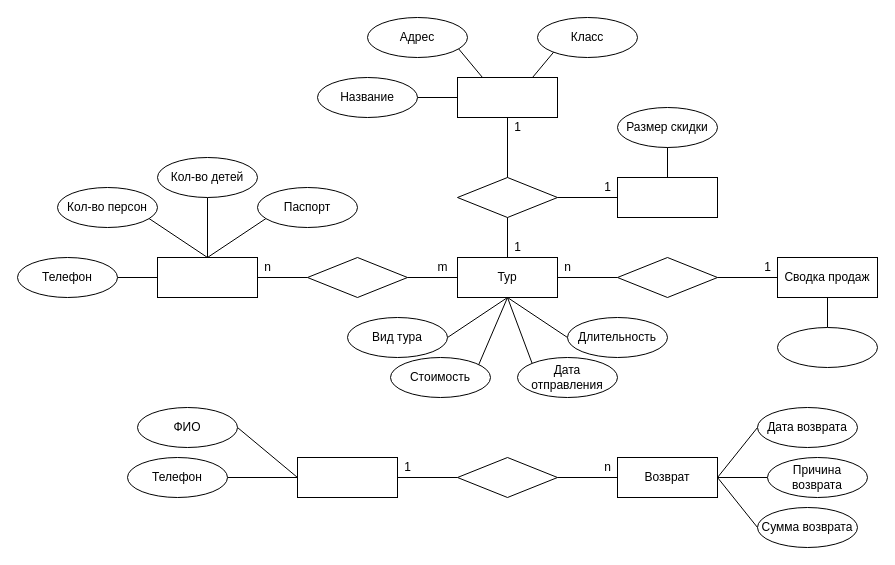
Some shapes in this 895 by 565 pixel diagram are drawn without their labels. The centre of each missing label's shape, as x and y in pixels:
"включает" belongs at (x=507, y=197).
"заносится" belongs at (x=667, y=277).
"Клиент" belongs at (x=207, y=277).
"Количество продаж" belongs at (x=827, y=347).
"Отель" belongs at (x=507, y=97).
"оформляет" belongs at (x=507, y=477).
"покупает" belongs at (x=357, y=277).
"Скидка" belongs at (x=667, y=197).
"Сотрудник" belongs at (x=347, y=477).
